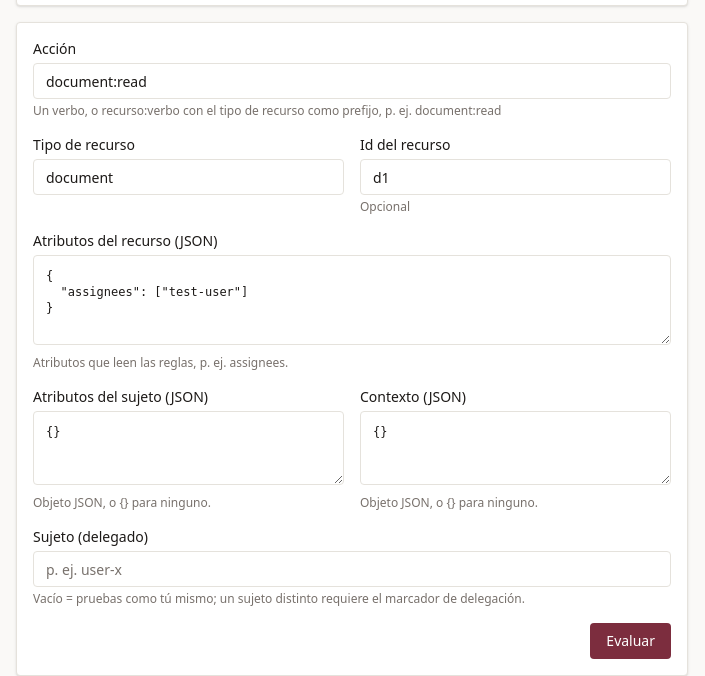
PolicyTesterScreen › evaluates against the active policy and renders the Decision
(page scrolled)
What coordinates should you click on to do the following:
click the button "Evaluar"
I would click on:
 (631, 641)
Its box is [590,623,671,659].
(page scrolled)
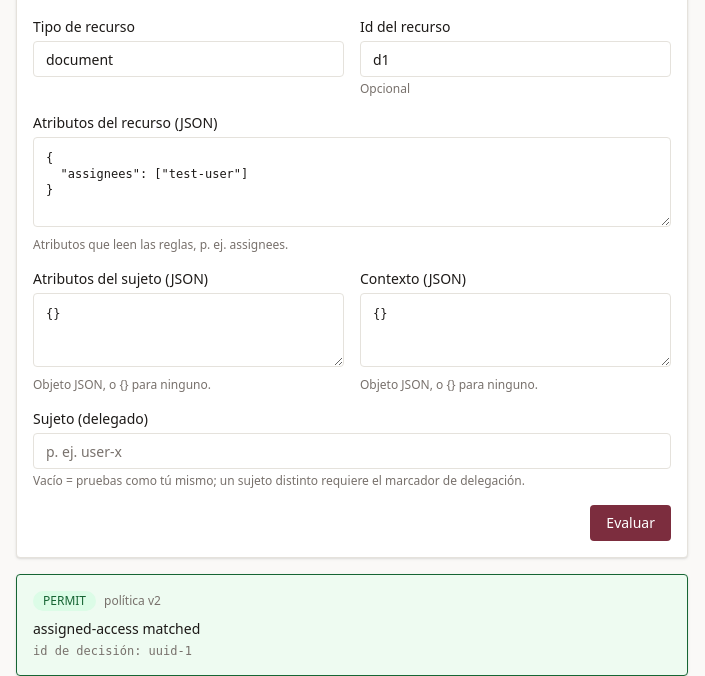
Expected: the text "PERMIT" is shown, [33,591,96,611]
Expected: the text "assigned-access matched" is shown, [33,619,200,638]
Expected: the text "política v2" is shown, [104,593,161,609]
